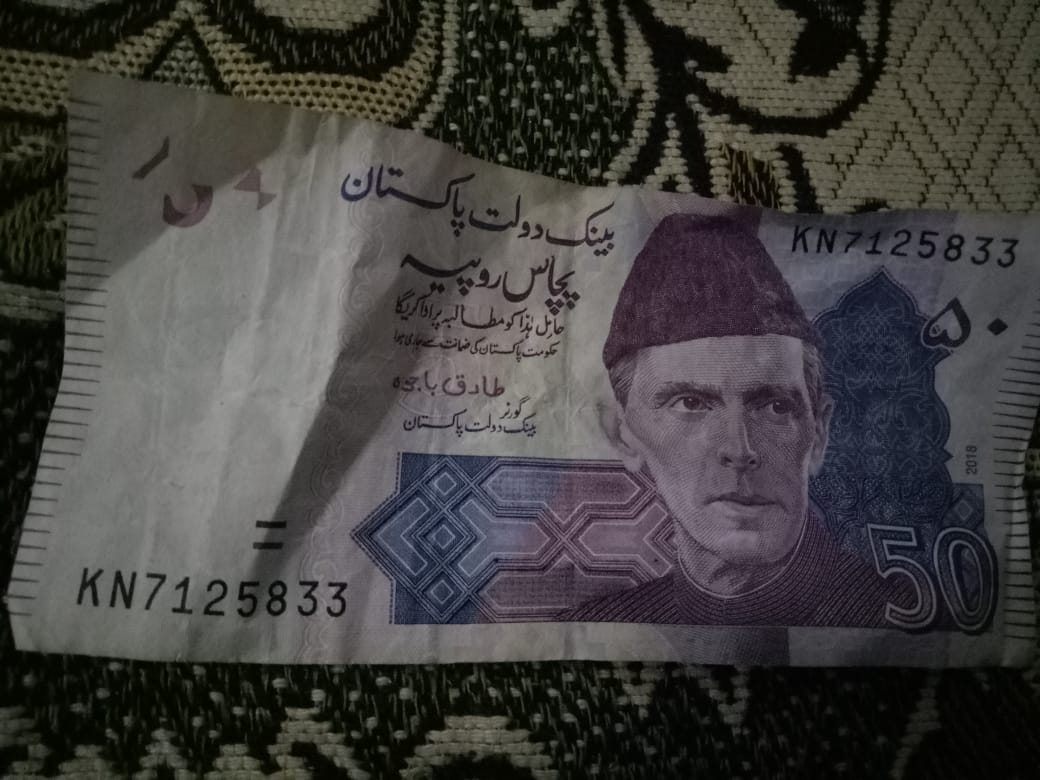50 rupee: (9, 41, 1025, 705)
